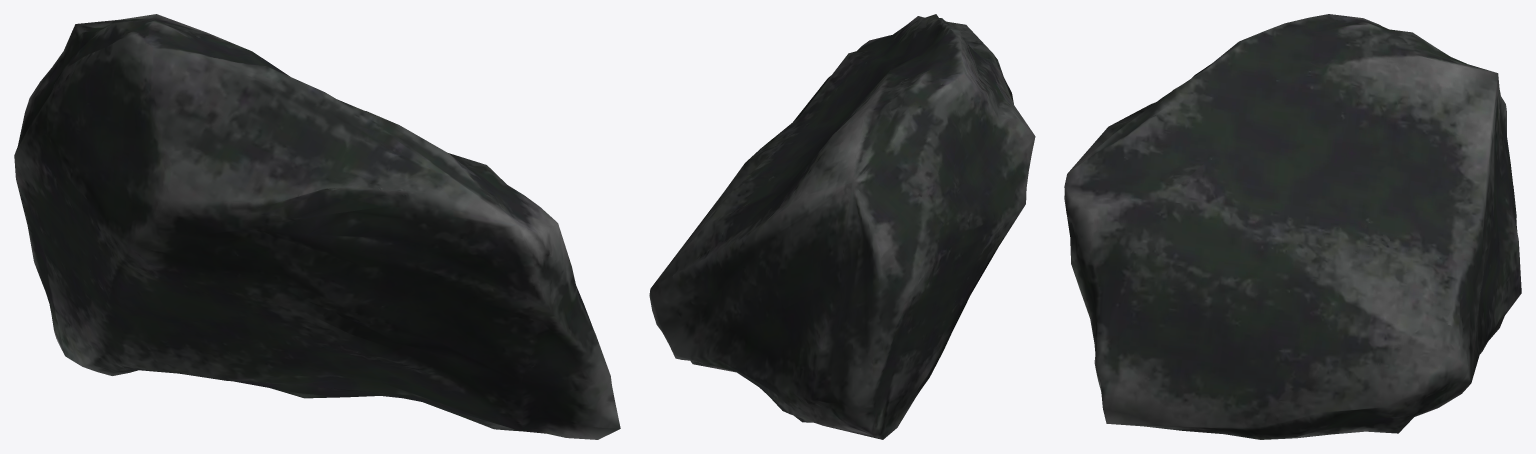
The model's file is rockDemo_05.glb.
3 renders of one model, left to right at view 1: azimuth 30°, elevation 25°; view 2: azimuth 150°, elevation 25°; view 3: azimuth 270°, elevation 25°, orthographic. The views are drawn at different scales.
Parts seen in each view (by area): view 1: Rock_05; view 2: Rock_05; view 3: Rock_05.
Part boxes in pixels (left/top/right/bottom): Rock_05: left=14, top=14, right=620, bottom=439; Rock_05: left=649, top=14, right=1035, bottom=439; Rock_05: left=1064, top=14, right=1521, bottom=439.
Bounding box in the file's own units: 0.4263 × 0.4231 × 0.5585.
1 material, 1 textured.
